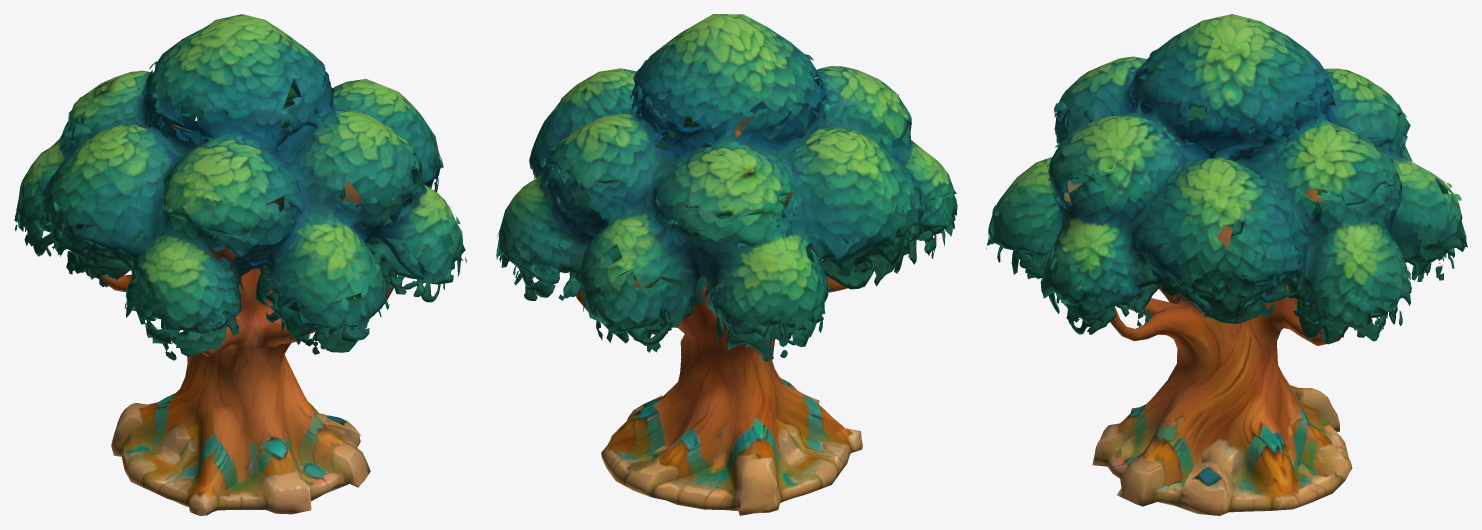
The model's file is 07-garden-emerald-canopy-tree.glb.
The picture shows the model from 3 angles, left to right: view 1: azimuth 30°, elevation 25°; view 2: azimuth 150°, elevation 25°; view 3: azimuth 270°, elevation 25°; orthographic projection.
Parts seen in each view (by area): view 1: tripo_node_bf8956ab; view 2: tripo_node_bf8956ab; view 3: tripo_node_bf8956ab.
Boxes of the visible parts, <box> form: tripo_node_bf8956ab: <box>14,14,466,515</box>; tripo_node_bf8956ab: <box>496,14,957,515</box>; tripo_node_bf8956ab: <box>986,14,1467,515</box>.
Bounding box in the file's own units: 1.06 × 1.2 × 1.17.
Materials: 1 (1 with a texture image).
